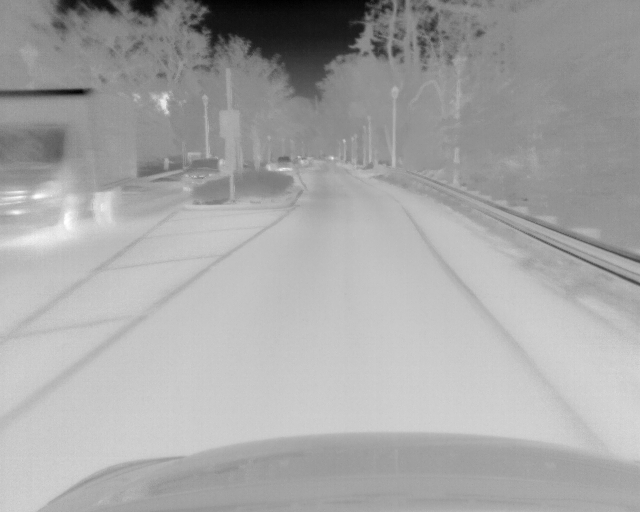car: (1, 87, 135, 230), (181, 157, 229, 193), (276, 156, 291, 171)
